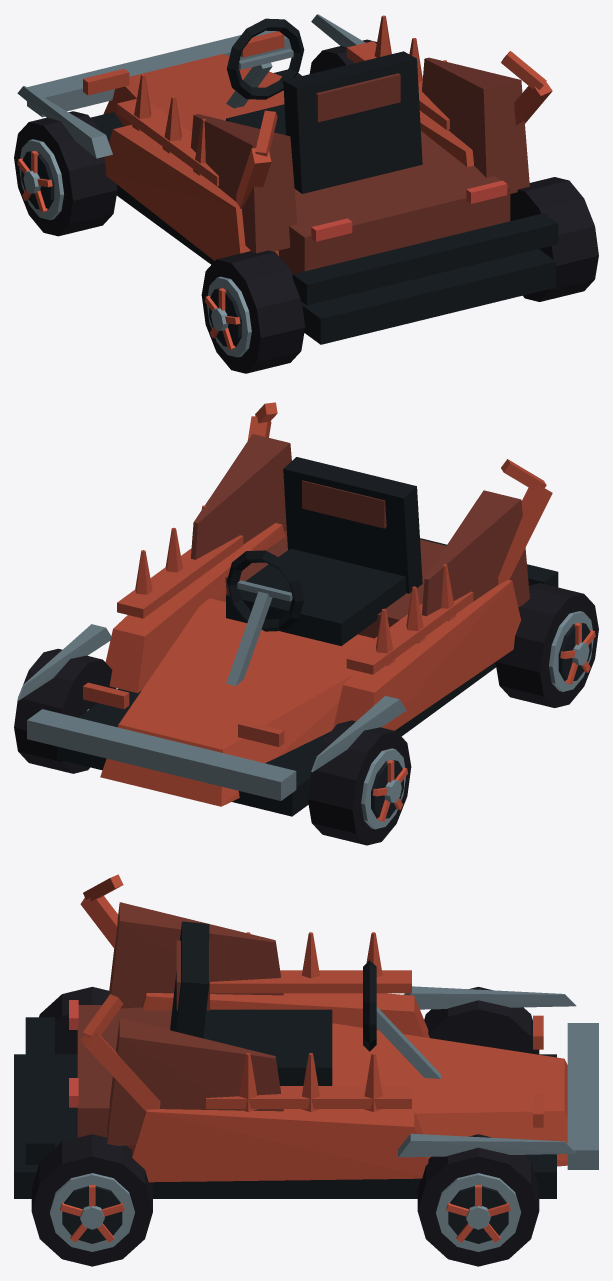
The model's file is kart.glb.
3 views of the same model, one above another, from view 1: azimuth 30°, elevation 25°; view 2: azimuth 150°, elevation 25°; view 3: azimuth 270°, elevation 25° (orthographic). The views are drawn at different scales.
Parts seen in each view (by area): view 1: chassis, wheel-rear-left, wheel-front-left, wheel-rear-right, wheel-front-right; view 2: chassis, wheel-front-left, wheel-rear-left, wheel-front-right; view 3: chassis, wheel-rear-right, wheel-front-right, wheel-front-left, wheel-rear-left.
Part boxes in pixels (box(x1,y1,x2,y2)): chassis: box(17, 14, 558, 344); wheel-rear-left: box(201, 250, 305, 373); wheel-front-left: box(14, 111, 117, 236); wheel-rear-right: box(510, 177, 598, 301); wheel-front-right: box(309, 39, 376, 73); chassis: box(17, 402, 558, 816); wheel-front-left: box(307, 720, 411, 845); wheel-rear-left: box(495, 583, 598, 707); wheel-front-right: box(14, 648, 116, 773); chassis: box(14, 874, 598, 1198); wheel-rear-right: box(31, 1134, 152, 1266); wheel-front-right: box(417, 1134, 539, 1266); wheel-front-left: box(424, 986, 539, 1054); wheel-rear-left: box(39, 986, 109, 1054).
Bounding box in the file's own units: 2.22 × 1.38 × 2.99.
